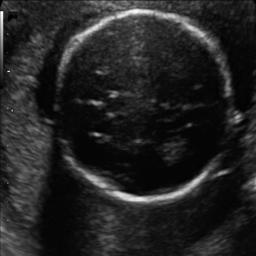normal: (56, 10, 238, 202)
